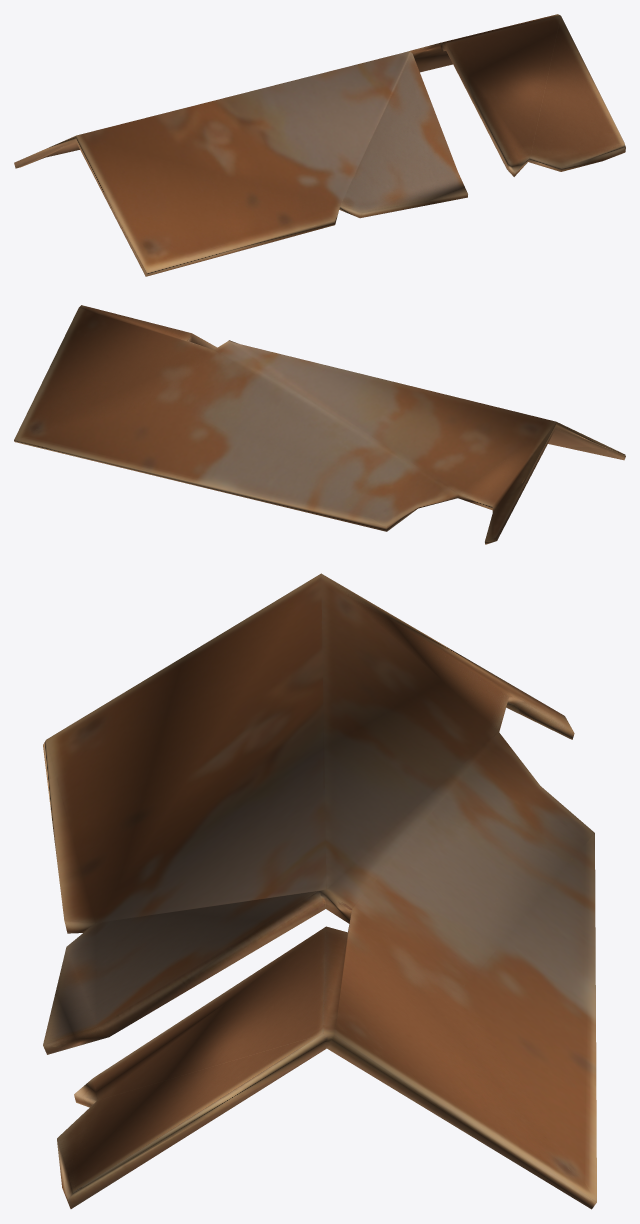
Rendered from Meshy_AI_Folded_Cardboard_Tent_0831081234_texture.fbx.
The picture shows the model from 3 angles, top to bottom: view 1: azimuth 30°, elevation 25°; view 2: azimuth 150°, elevation 25°; view 3: azimuth 270°, elevation 25°; orthographic projection. The views are drawn at different scales.
Visible parts, largest first — view 1: mesh_node; view 2: mesh_node; view 3: mesh_node.
Part boxes in pixels (x1,y1,x2,y2): mesh_node: [14, 14, 625, 276]; mesh_node: [14, 305, 625, 544]; mesh_node: [43, 573, 596, 1209].
Bounding box in the file's own units: 100 × 18.16 × 50.59.
Materials: 1 (1 with a texture image).
